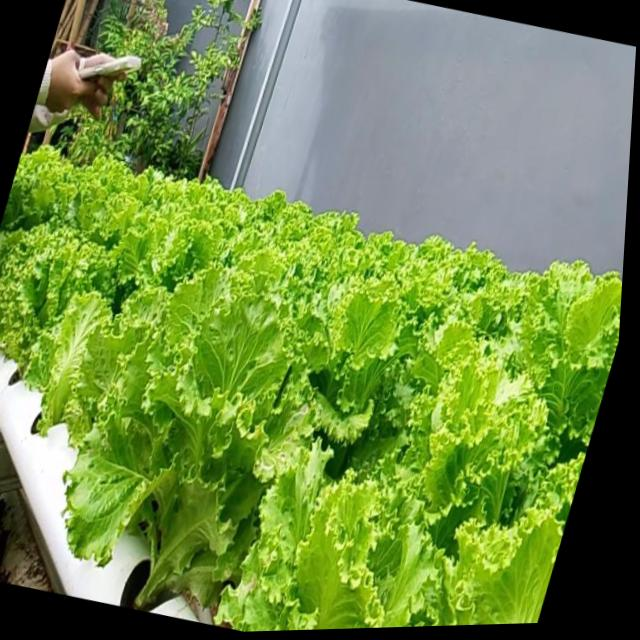Mature: (0, 160, 623, 631), (96, 301, 310, 595), (0, 202, 141, 419)
